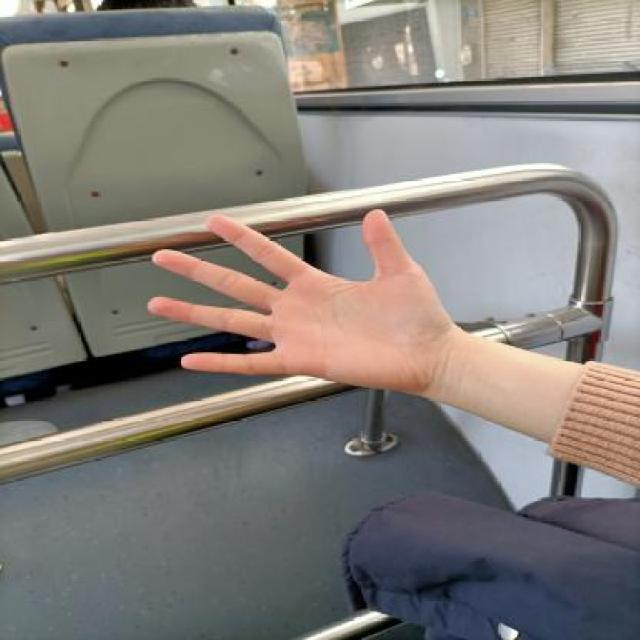bare_hand: (140, 189, 468, 414)
